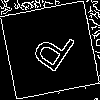P: (25, 25, 78, 82)
